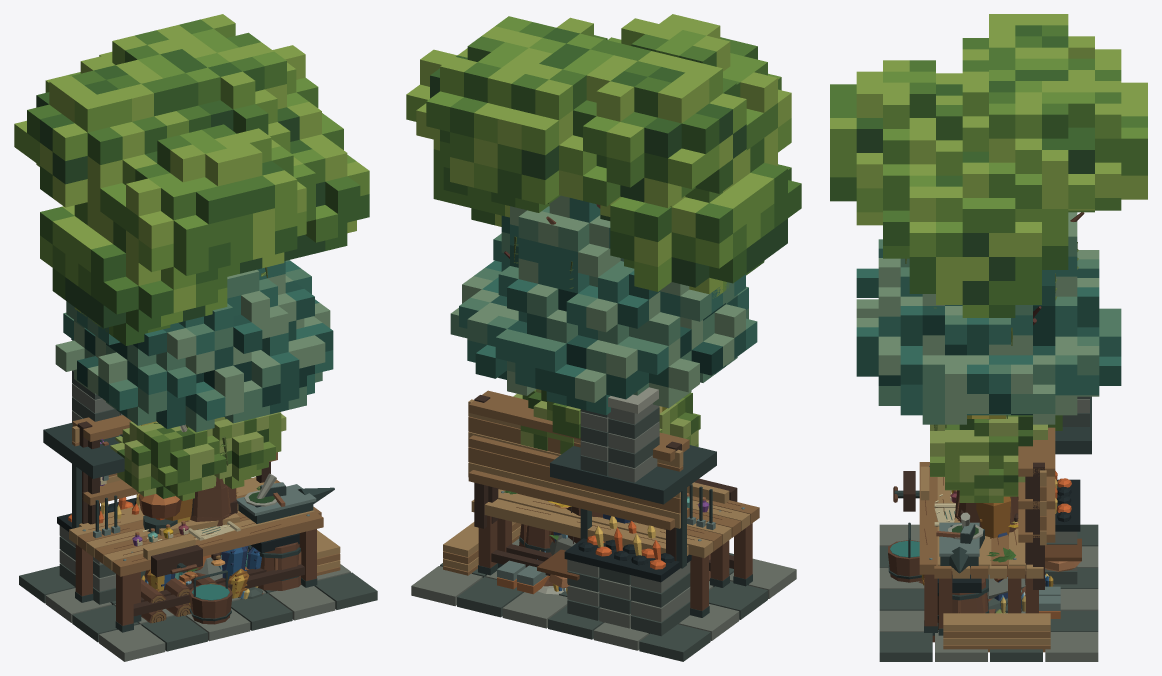
File: gathering-kit.glb
The picture shows the model from 3 angles, left to right: view 1: azimuth 30°, elevation 25°; view 2: azimuth 150°, elevation 25°; view 3: azimuth 270°, elevation 25°; orthographic projection. The views are drawn at different scales.
Visible parts, largest first — view 1: gathering-elderwood-yield, gathering-ironwood-yield, crafting-forge-solid, crafting-woodworking-solid, gathering-timber-yield, crafting-alchemy-solid, gathering-sunstone-vein-yield, gathering-cobalt-vein-yield, gathering-copper-vein-yield; view 2: gathering-elderwood-yield, gathering-ironwood-yield, crafting-forge-solid, crafting-woodworking-solid, crafting-alchemy-solid, gathering-timber-yield; view 3: gathering-elderwood-yield, gathering-ironwood-yield, crafting-forge-solid, crafting-woodworking-solid, gathering-timber-yield, crafting-alchemy-solid, gathering-sunstone-vein-yield.
Part boxes in pixels (box(x1,y1,x2,y2)): gathering-elderwood-yield: box(14, 14, 369, 565); gathering-ironwood-yield: box(55, 260, 333, 432); crafting-forge-solid: box(19, 370, 377, 661); crafting-woodworking-solid: box(69, 421, 340, 632); gathering-timber-yield: box(110, 412, 286, 500); crafting-alchemy-solid: box(72, 415, 321, 622); gathering-sunstone-vein-yield: box(141, 488, 258, 605); gathering-cobalt-vein-yield: box(145, 545, 261, 598); gathering-copper-vein-yield: box(178, 555, 248, 585); gathering-elderwood-yield: box(406, 14, 801, 543); gathering-ironwood-yield: box(450, 195, 757, 415); crafting-forge-solid: box(411, 387, 796, 661); crafting-woodworking-solid: box(443, 395, 759, 617); crafting-alchemy-solid: box(468, 390, 729, 587); gathering-timber-yield: box(513, 389, 700, 454); gathering-elderwood-yield: box(830, 14, 1147, 532); gathering-ironwood-yield: box(856, 212, 1121, 428); crafting-forge-solid: box(879, 396, 1098, 661); crafting-woodworking-solid: box(893, 462, 1050, 652); gathering-timber-yield: box(930, 415, 1062, 502); crafting-alchemy-solid: box(934, 427, 1055, 635); gathering-sunstone-vein-yield: box(921, 496, 1053, 613).
Size of the model in its own units: 4.32 by 7.92 by 4.32.
